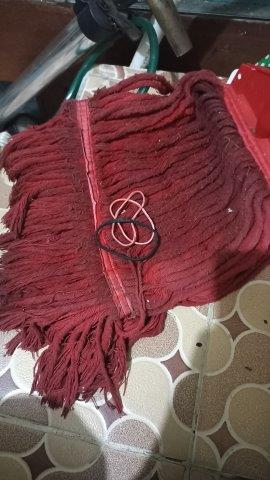karet: (94, 190, 160, 261)
